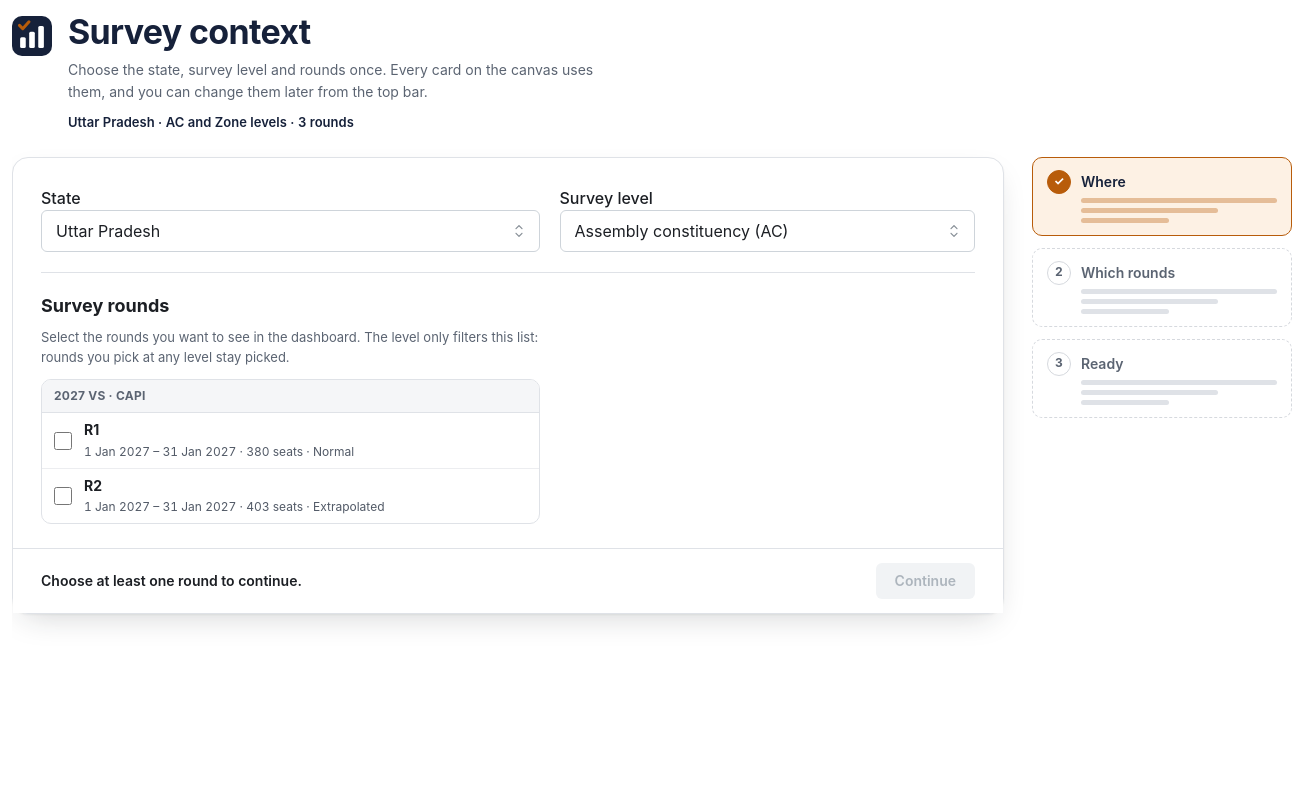
Test: ContextBar › apply writes the URL
The image size is (1292, 812).
Step 1. Click the checkbox named "2027 VS CAPI R1" → (63, 441), box [54, 432, 72, 450]
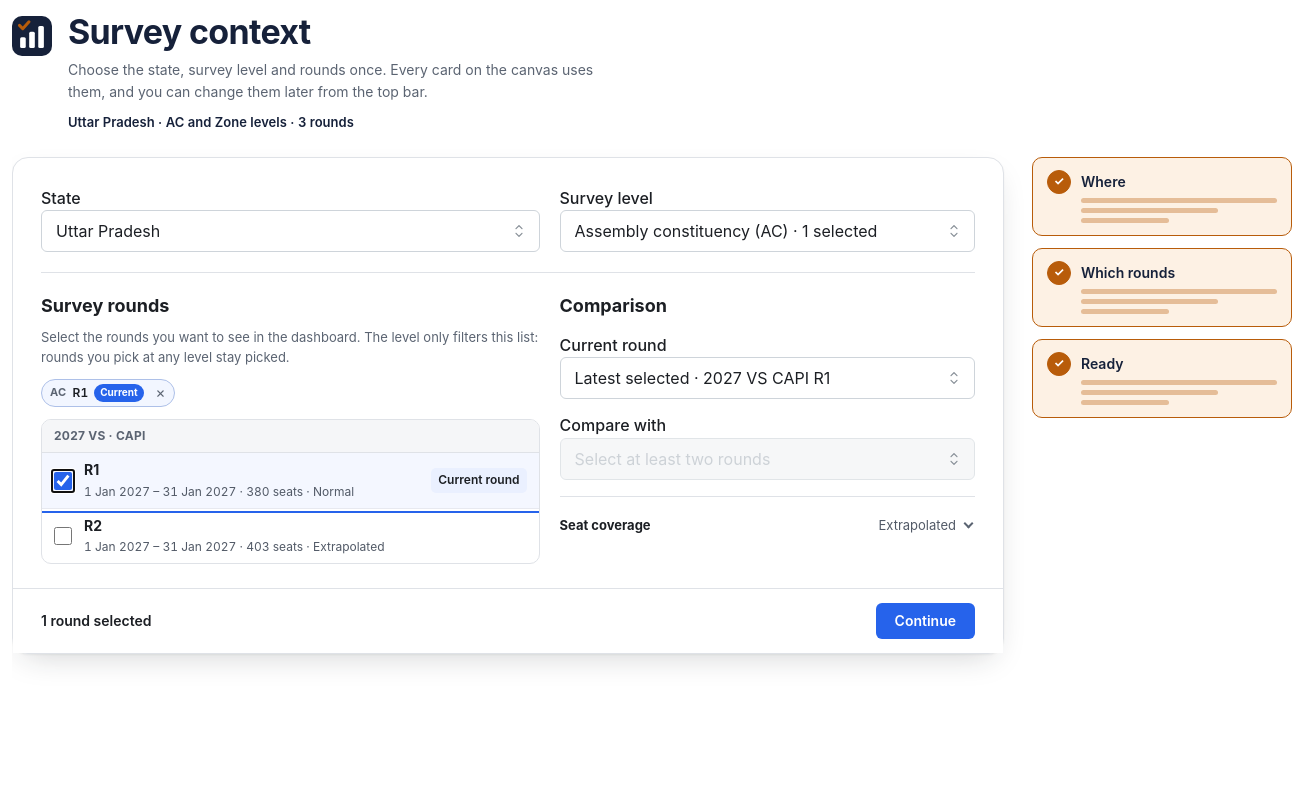
Step 2. Click the checkbox named "2027 VS CAPI R2" → (63, 536), box [54, 527, 72, 545]
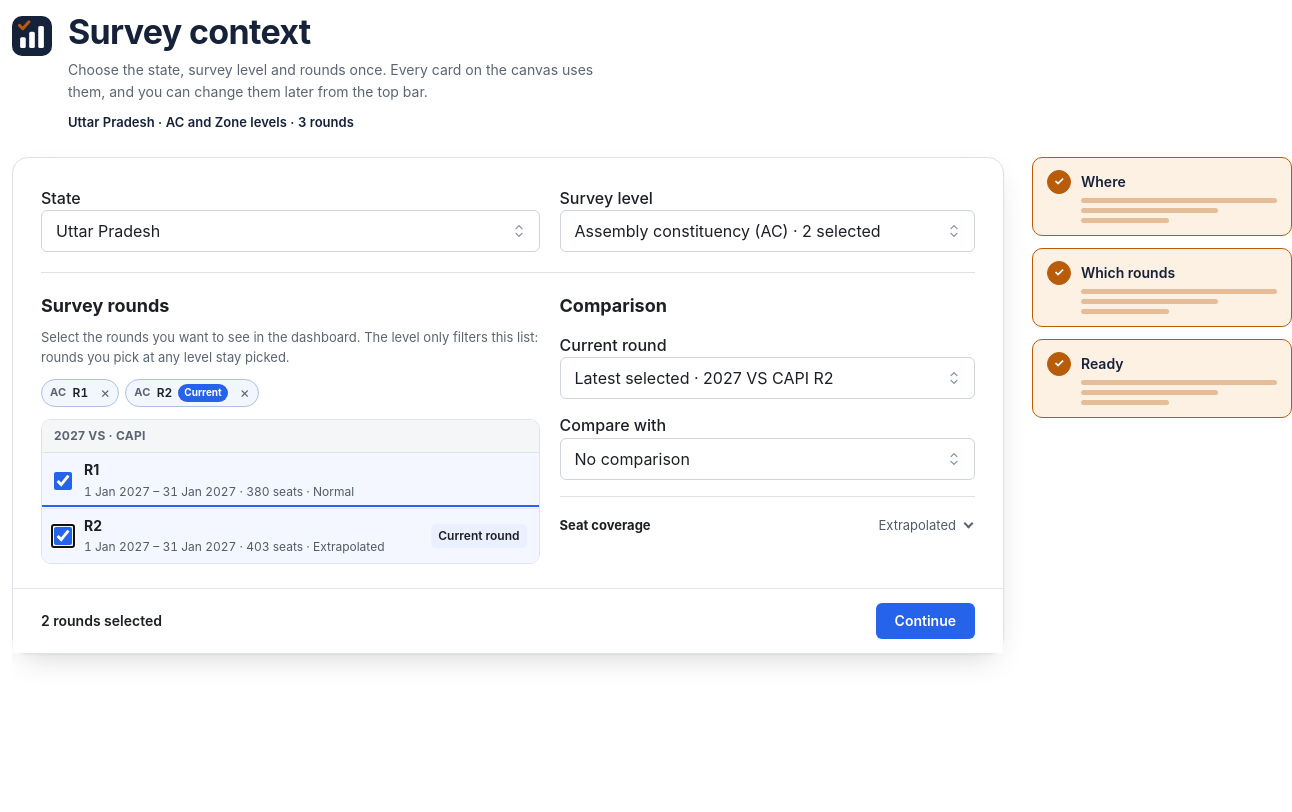
Step 3. Click the button "Continue" → (925, 621), box [876, 603, 975, 639]
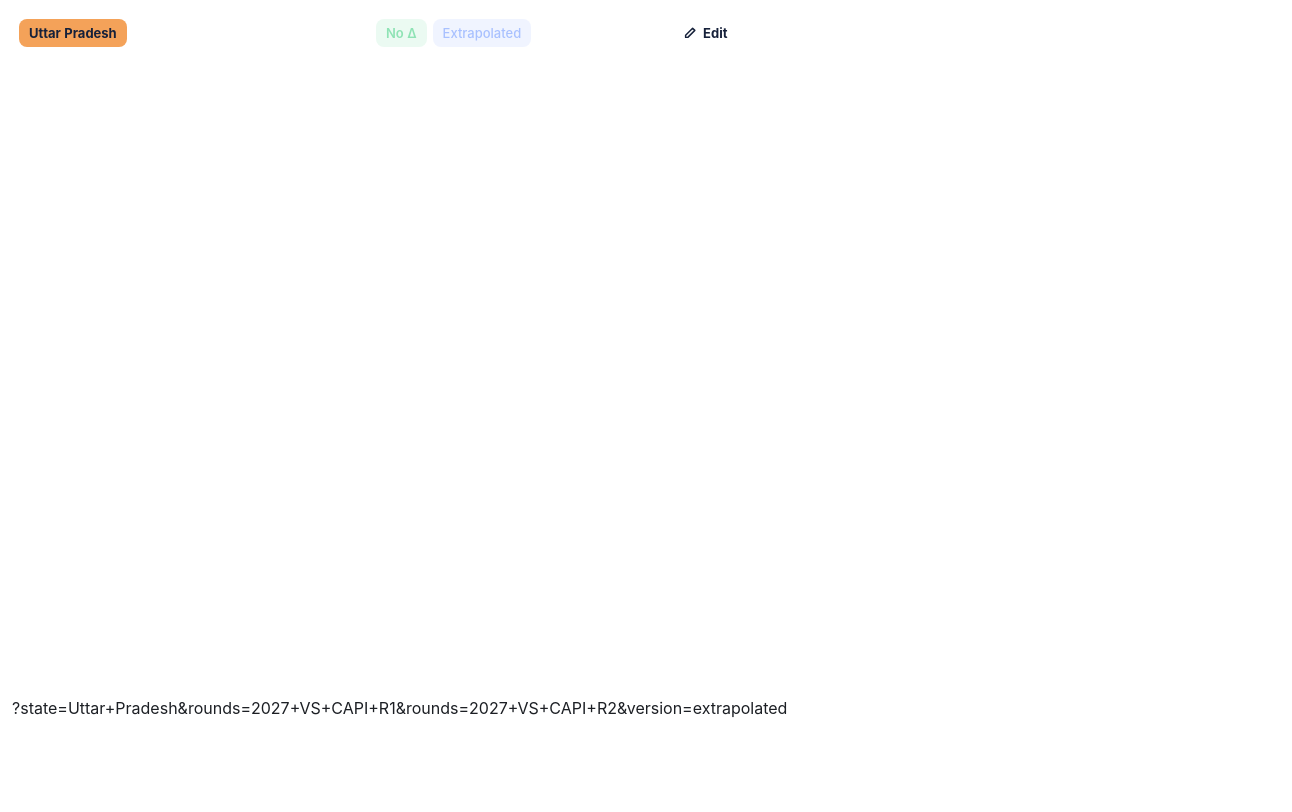
Check: the element with test id "context-pill" reads "Uttar Pradesh AC level 2027 VS · CAPI R1–R2 No Δ Extrapolated Geo: whole state", box [19, 19, 661, 47]
